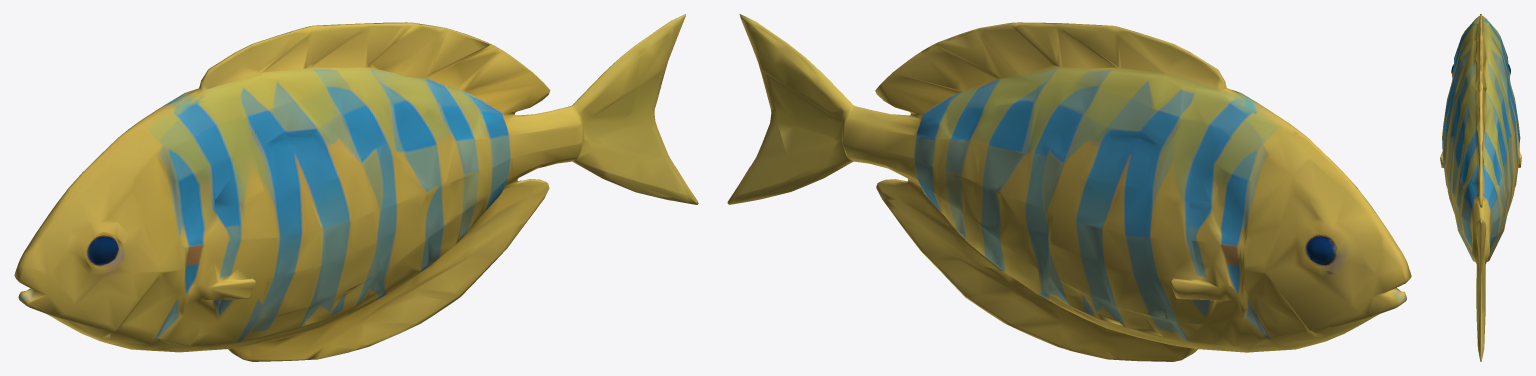
File: butterfly.glb
The picture shows the model from 3 angles, left to right: view 1: azimuth 30°, elevation 25°; view 2: azimuth 150°, elevation 25°; view 3: azimuth 270°, elevation 25°; orthographic projection. The views are drawn at different scales.
Visible parts, largest first — view 1: material; view 2: material; view 3: material.
Boxes of the visible parts, x1,y1,x2,y2 form: material: (14,14,698,361); material: (727,14,1411,361); material: (1440,14,1521,361).
Size of the model in its own units: 1.15 by 0.5402 by 0.1694.
1 material, 1 textured.
